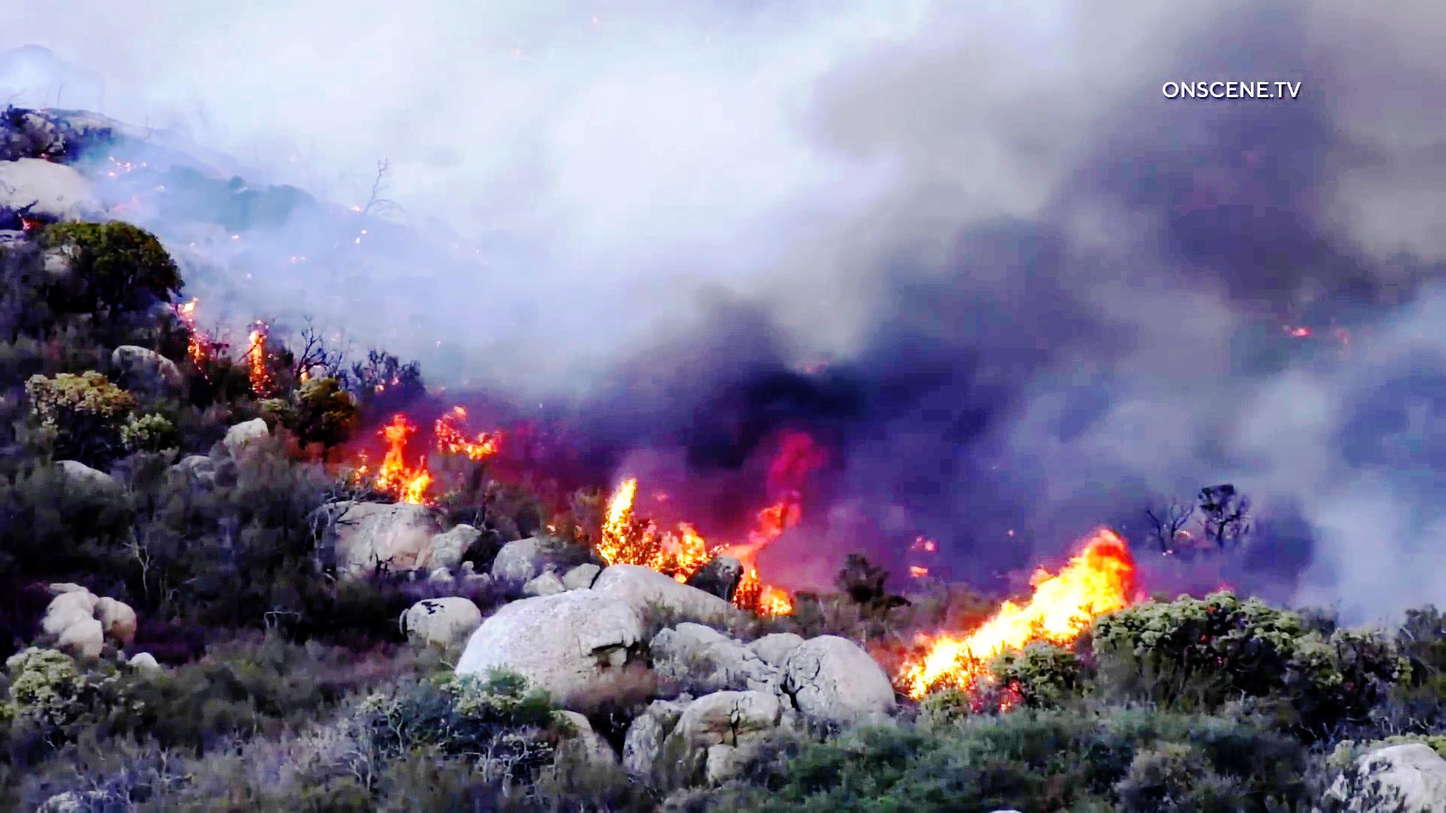fire: (703, 157, 1370, 463), (932, 540, 1145, 684), (603, 482, 786, 616), (328, 379, 462, 527)
